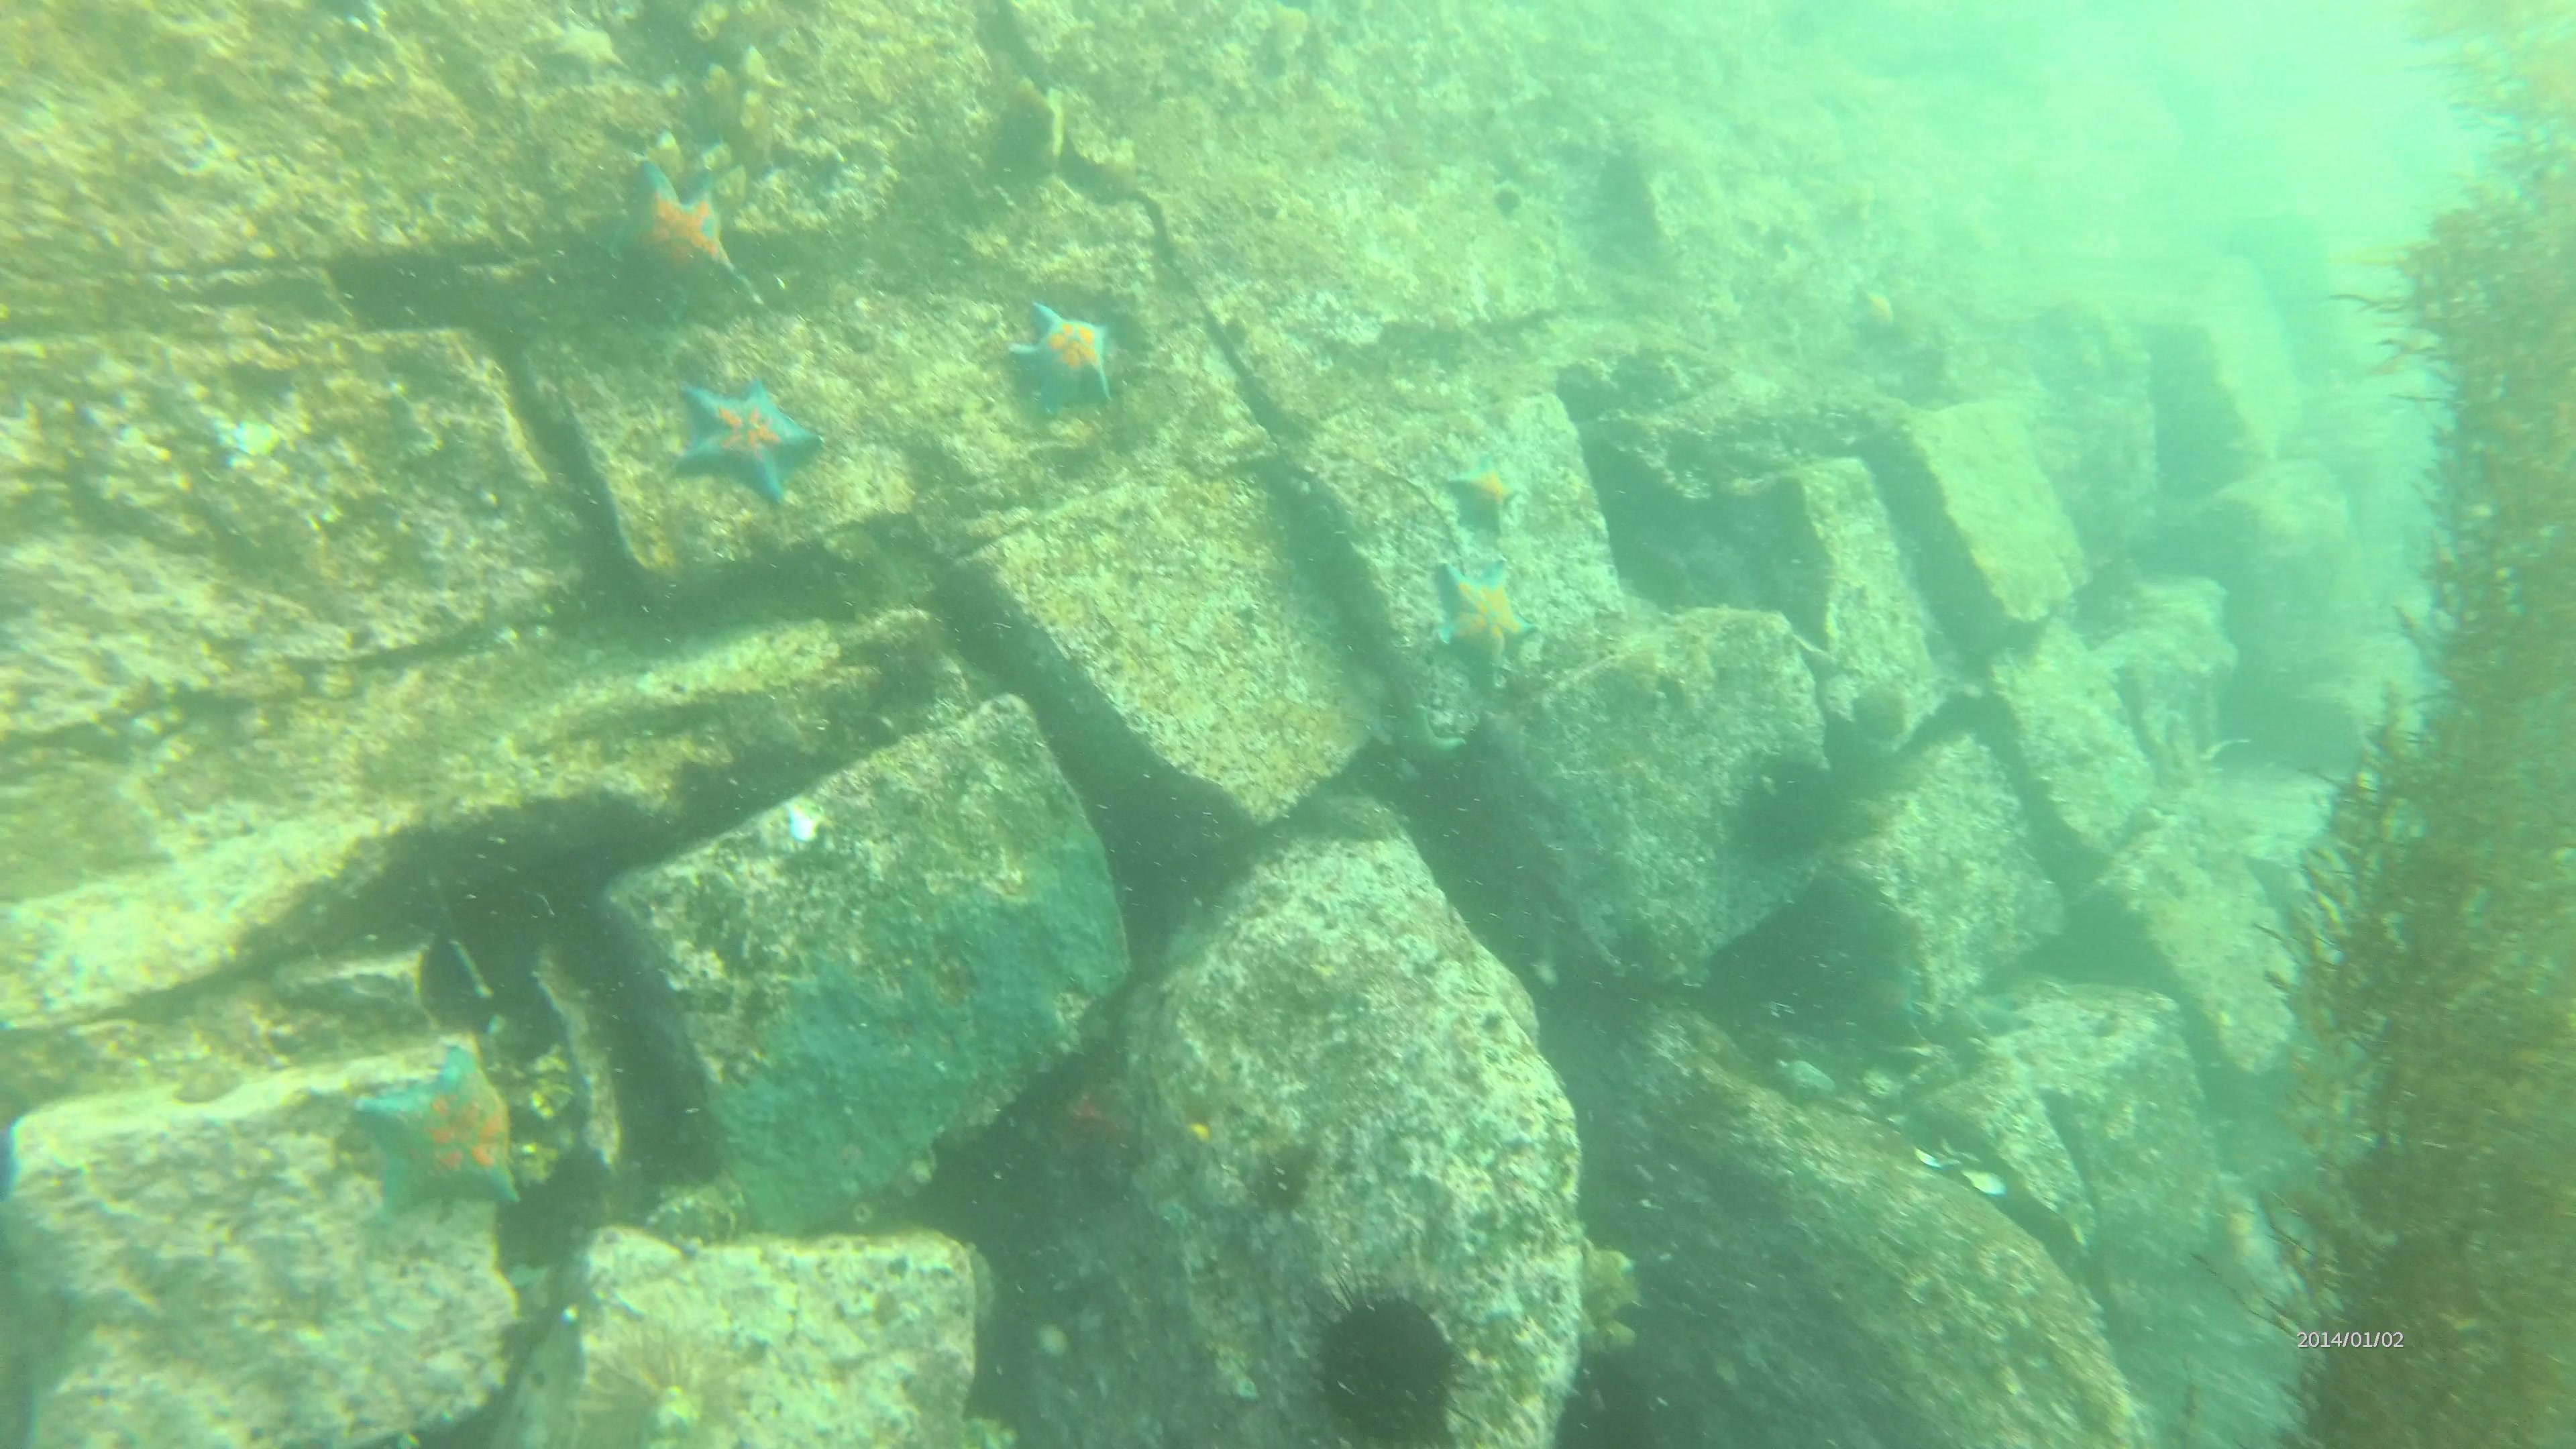echinus: (1313, 1281, 1476, 1449), (1736, 748, 1847, 865)
starfish: (357, 1051, 529, 1215), (672, 382, 823, 513), (623, 156, 752, 294), (1421, 561, 1543, 690), (1012, 294, 1122, 410), (1445, 448, 1534, 540)
